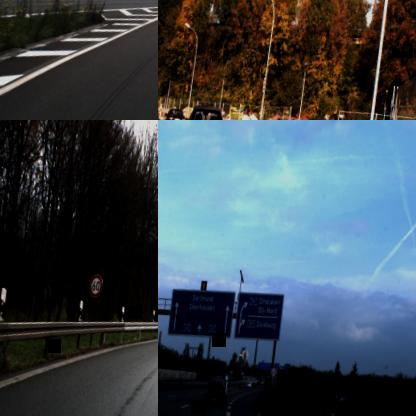speed limit 60: (86, 272, 104, 298), (268, 365, 278, 378)
